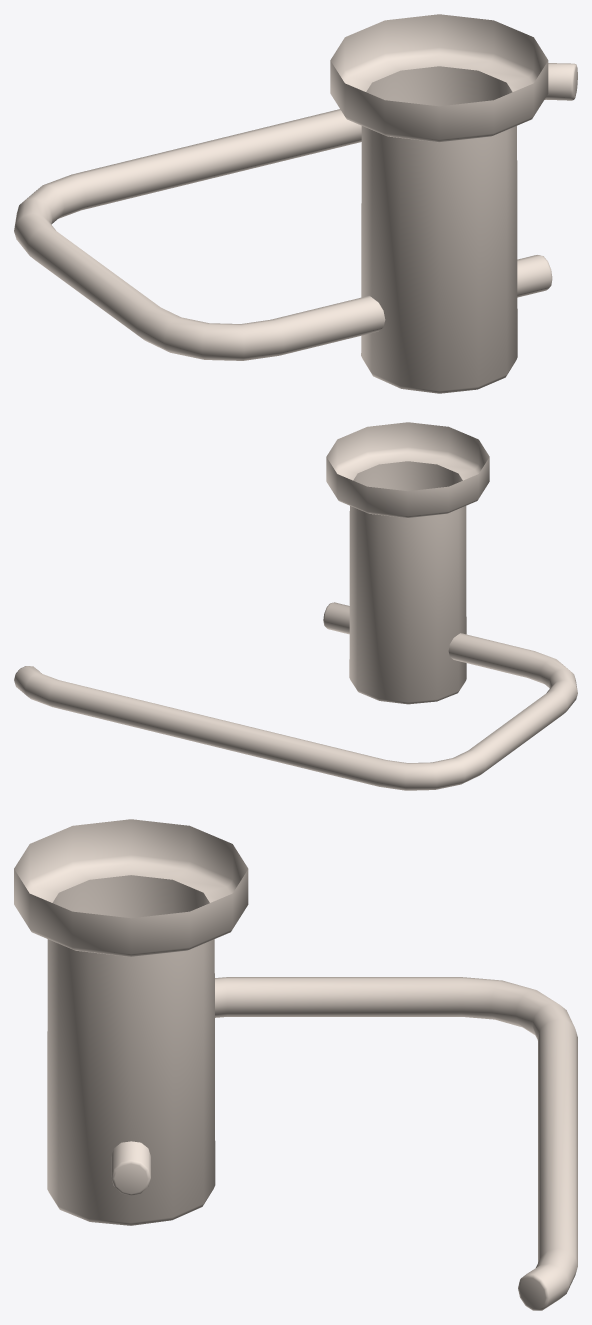
File: ToiletPaperHanger_14_ToiletPaperHanger_14_0.obj
The picture shows the model from 3 angles, top to bottom: view 1: azimuth 30°, elevation 25°; view 2: azimuth 150°, elevation 25°; view 3: azimuth 270°, elevation 25°; orthographic projection. The views are drawn at different scales.
Visible parts, largest first — view 1: ToiletPaperHanger_14; view 2: ToiletPaperHanger_14; view 3: ToiletPaperHanger_14.
Part boxes in pixels (left/top/right/bottom): ToiletPaperHanger_14: left=14, top=14, right=577, bottom=393; ToiletPaperHanger_14: left=14, top=422, right=577, bottom=790; ToiletPaperHanger_14: left=14, top=819, right=577, bottom=1310.
Size of the model in its own units: 0.2047 by 0.1003 by 0.1575.
